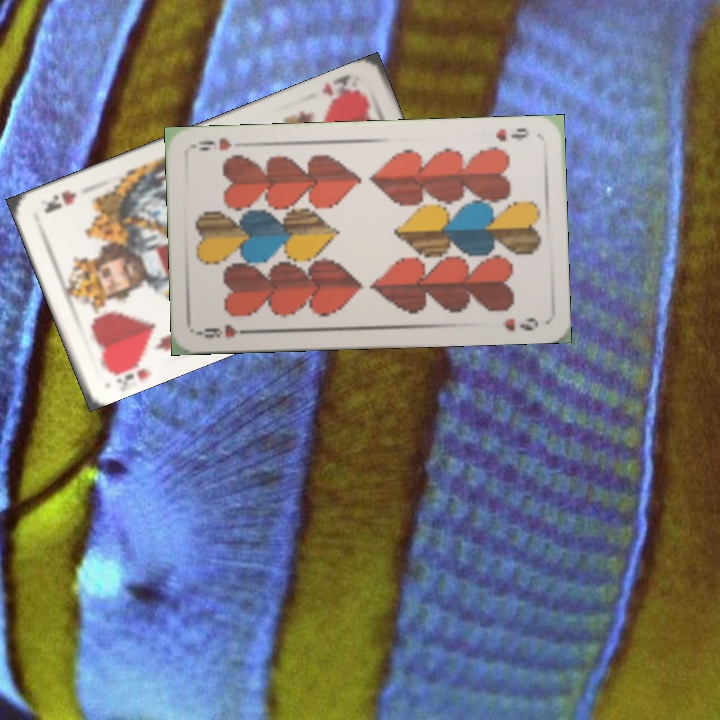H9: (195, 320, 255, 341), (491, 123, 532, 144)
HK: (103, 351, 150, 390), (317, 70, 364, 108)
